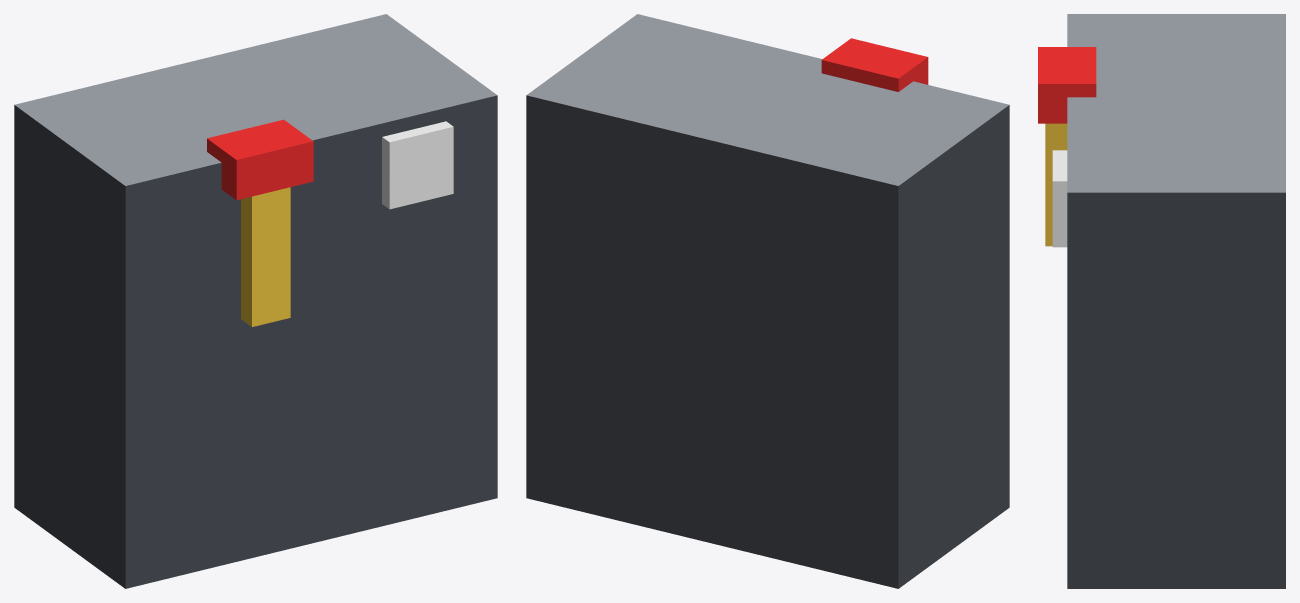
File: prop_power_panel.glb
3 renders of one model, left to right at view 1: azimuth 30°, elevation 25°; view 2: azimuth 150°, elevation 25°; view 3: azimuth 270°, elevation 25°, orthographic.
Visible parts, largest first — view 1: box, lever, lamp; view 2: box, lever; view 3: box, lever, lamp.
Boxes of the visible parts, x1,y1,x2,y2 form: box: [14, 14, 497, 588]; lever: [207, 119, 313, 326]; lamp: [382, 121, 453, 209]; box: [526, 14, 1009, 588]; lever: [821, 38, 928, 91]; box: [1067, 14, 1285, 588]; lever: [1038, 47, 1096, 246]; lamp: [1052, 150, 1067, 247].
Bounding box in the file's own units: 0.29 × 0.31 × 0.17.
2 materials, 1 textured.
